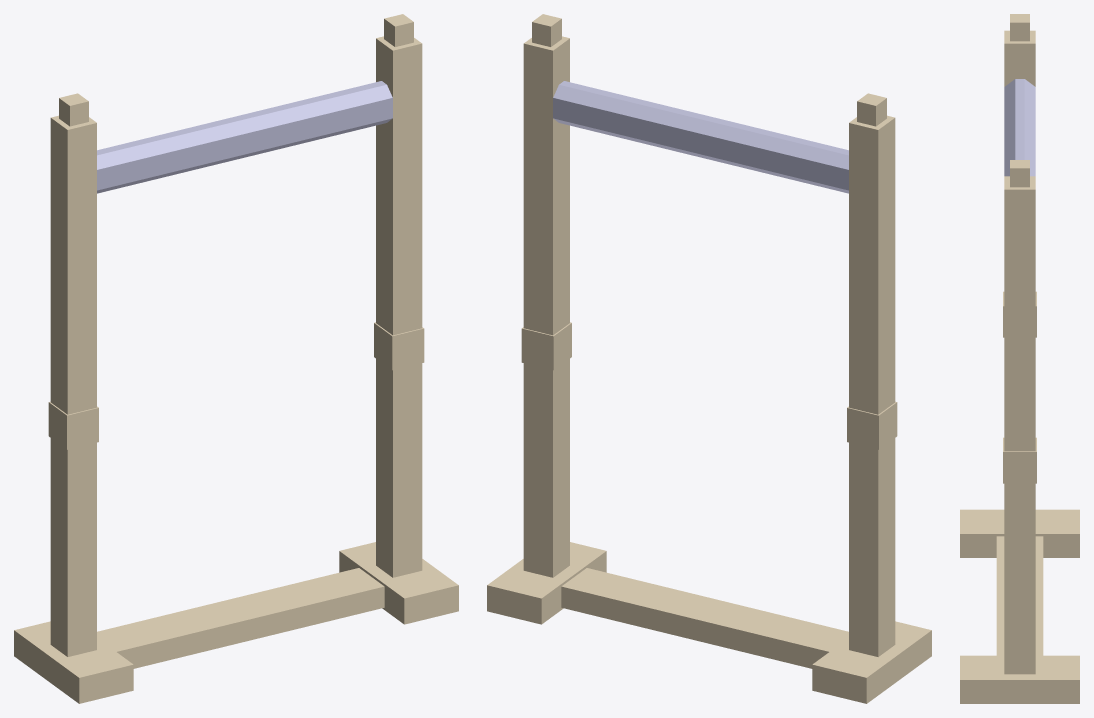
The model's file is Character_Rooms_Barfiks.fbx.
3 views of the same model, side by side, from view 1: azimuth 30°, elevation 25°; view 2: azimuth 150°, elevation 25°; view 3: azimuth 270°, elevation 25° (orthographic). The views are drawn at different scales.
Visible parts, largest first — view 1: Cube.015; view 2: Cube.015; view 3: Cube.015.
Boxes of the visible parts, x1,y1,x2,y2 form: Cube.015: (14, 14, 458, 703); Cube.015: (487, 14, 931, 703); Cube.015: (960, 14, 1079, 703).
Bounding box in the file's own units: 229 × 331 × 68.19.
